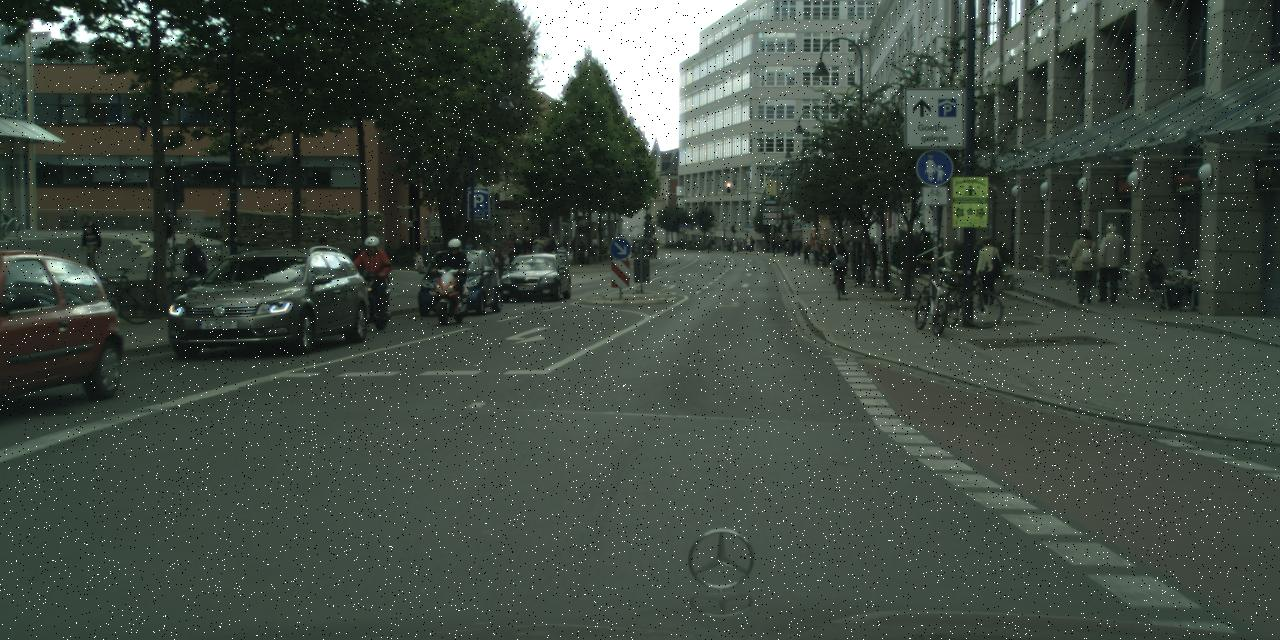ped: (1094, 223, 1126, 302), (176, 237, 208, 314), (1070, 228, 1101, 304), (354, 235, 384, 312), (436, 238, 464, 307), (507, 235, 568, 265), (974, 235, 1001, 302), (77, 214, 101, 274), (828, 237, 848, 289), (803, 238, 833, 269), (158, 209, 175, 252), (316, 237, 332, 280), (864, 238, 880, 274), (726, 235, 757, 252), (484, 244, 498, 276), (644, 238, 660, 260), (771, 237, 788, 257), (494, 250, 504, 278), (570, 236, 580, 261), (413, 250, 423, 274), (793, 236, 801, 257), (706, 240, 711, 252), (562, 238, 566, 250), (634, 238, 640, 242), (632, 251, 632, 253)
